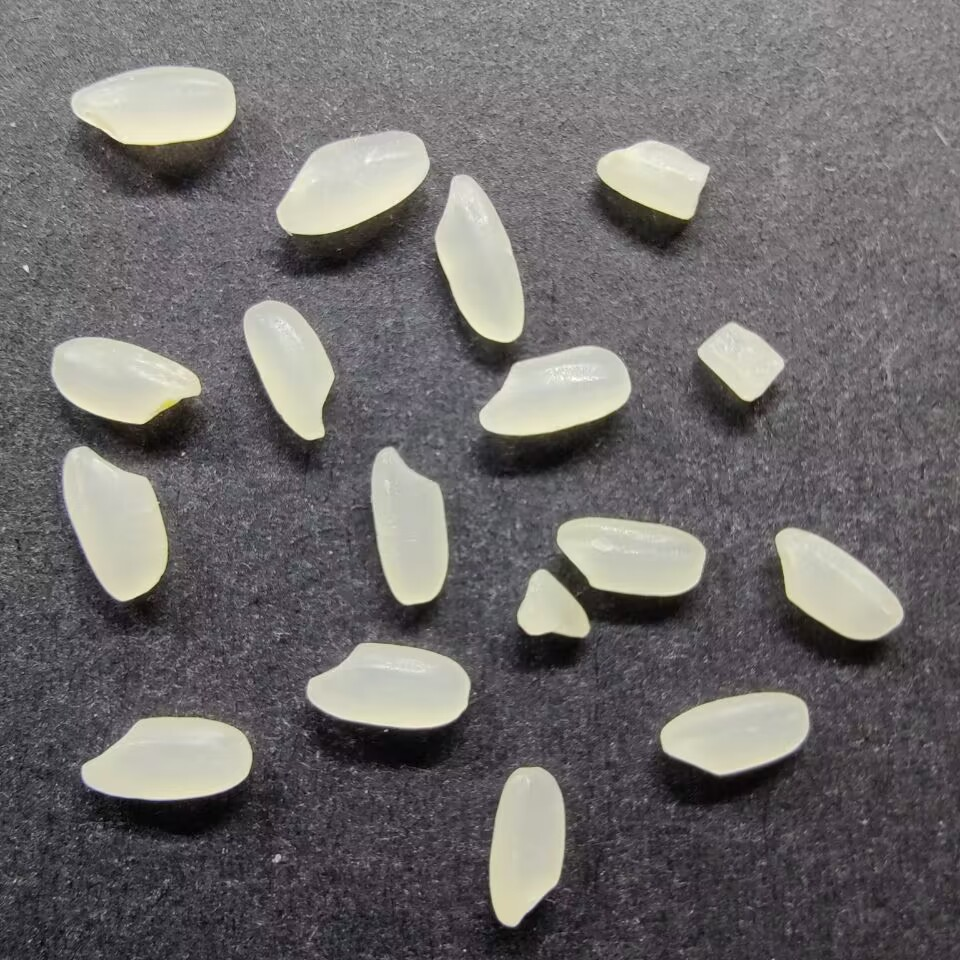broken: (592, 138, 711, 221), (694, 321, 786, 403), (514, 567, 591, 642)
rice: (60, 446, 171, 604), (276, 129, 430, 237), (433, 172, 526, 345), (78, 713, 253, 803), (773, 525, 904, 641), (306, 640, 471, 731), (473, 345, 633, 437), (49, 335, 202, 426), (68, 64, 237, 146), (241, 299, 336, 444), (657, 690, 811, 777), (368, 444, 450, 607), (488, 765, 568, 930), (554, 514, 707, 598)
